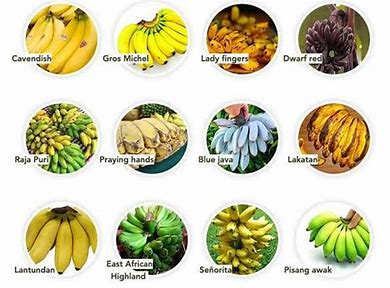inorganic: (116, 208, 193, 278), (210, 106, 278, 178), (115, 10, 190, 71), (214, 207, 275, 278), (207, 10, 272, 75), (299, 105, 369, 164), (30, 207, 93, 271), (31, 106, 90, 172), (26, 10, 91, 69), (114, 117, 191, 161), (307, 210, 363, 267), (304, 11, 359, 67)
